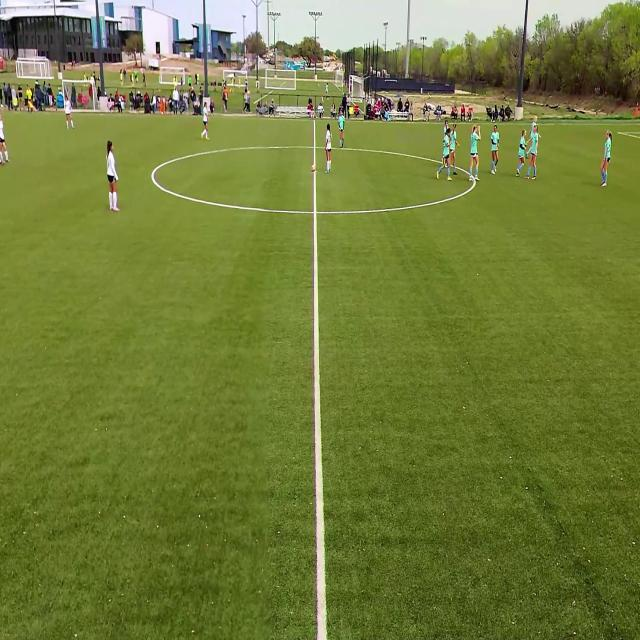ball: (311, 164, 317, 174)
team1: (469, 124, 482, 184), (600, 130, 612, 189), (440, 128, 452, 182), (528, 129, 539, 179), (517, 131, 528, 180), (490, 124, 500, 176), (451, 124, 459, 178), (338, 111, 346, 149), (529, 115, 539, 129), (444, 120, 449, 130)
team2: (108, 139, 124, 213), (322, 122, 332, 171), (0, 113, 9, 164), (65, 90, 75, 130), (202, 100, 210, 142)
